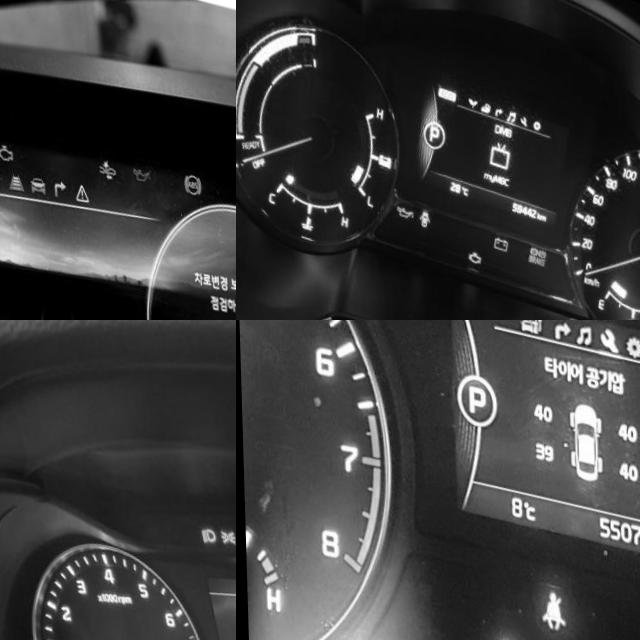Central Warning lamp: (73, 170, 87, 192)
Doors: (415, 195, 429, 216)
Low beam: (198, 511, 216, 533)
SideLamp: (217, 511, 236, 534)
